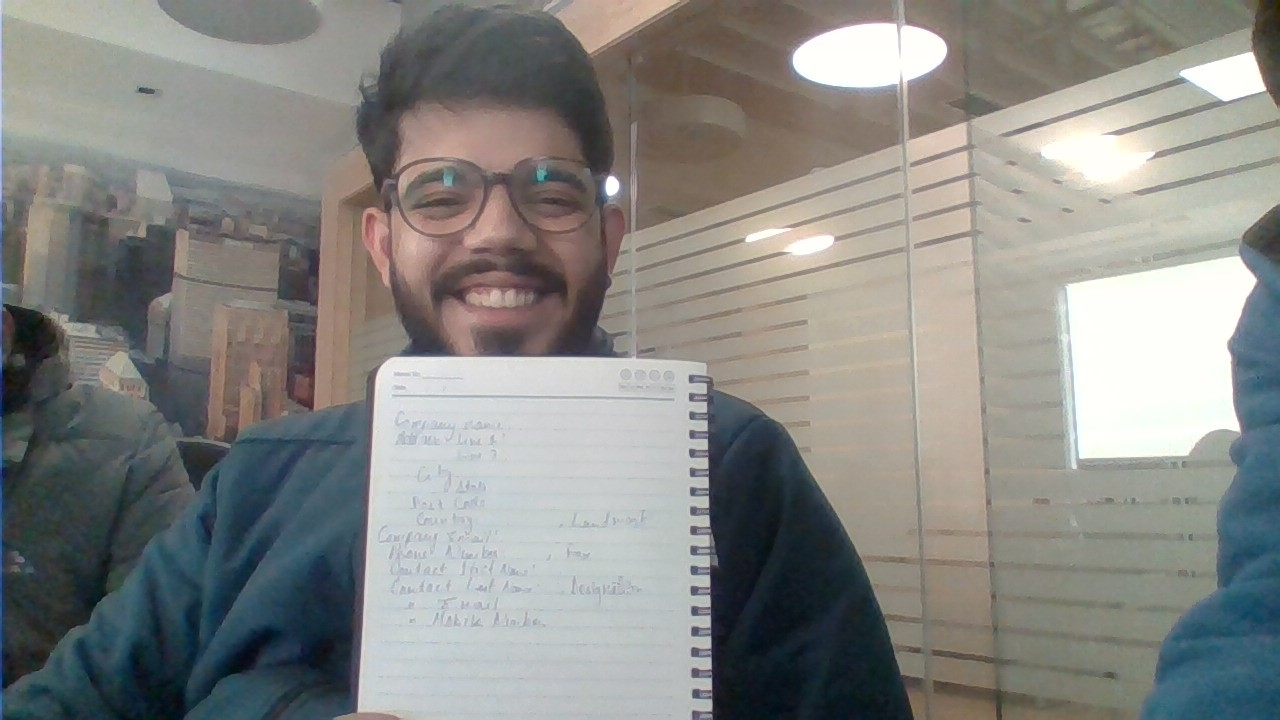partial: (348, 352, 717, 720)
